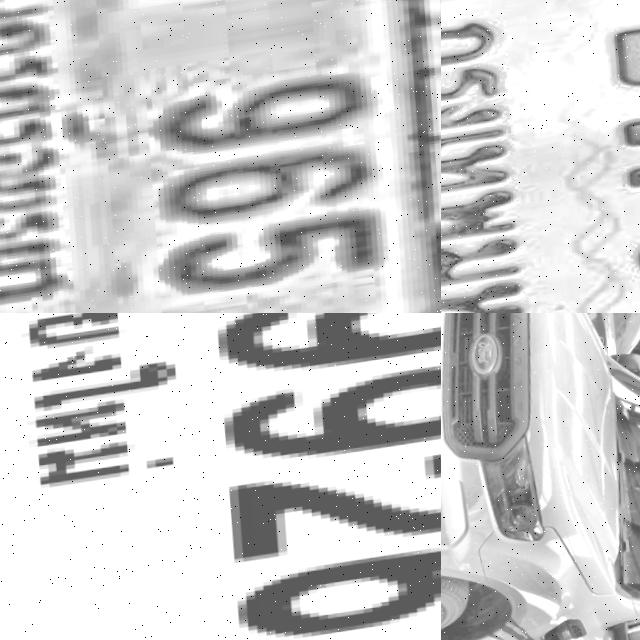license-plate: (0, 313, 441, 640), (0, 0, 441, 313), (441, 0, 640, 313)
